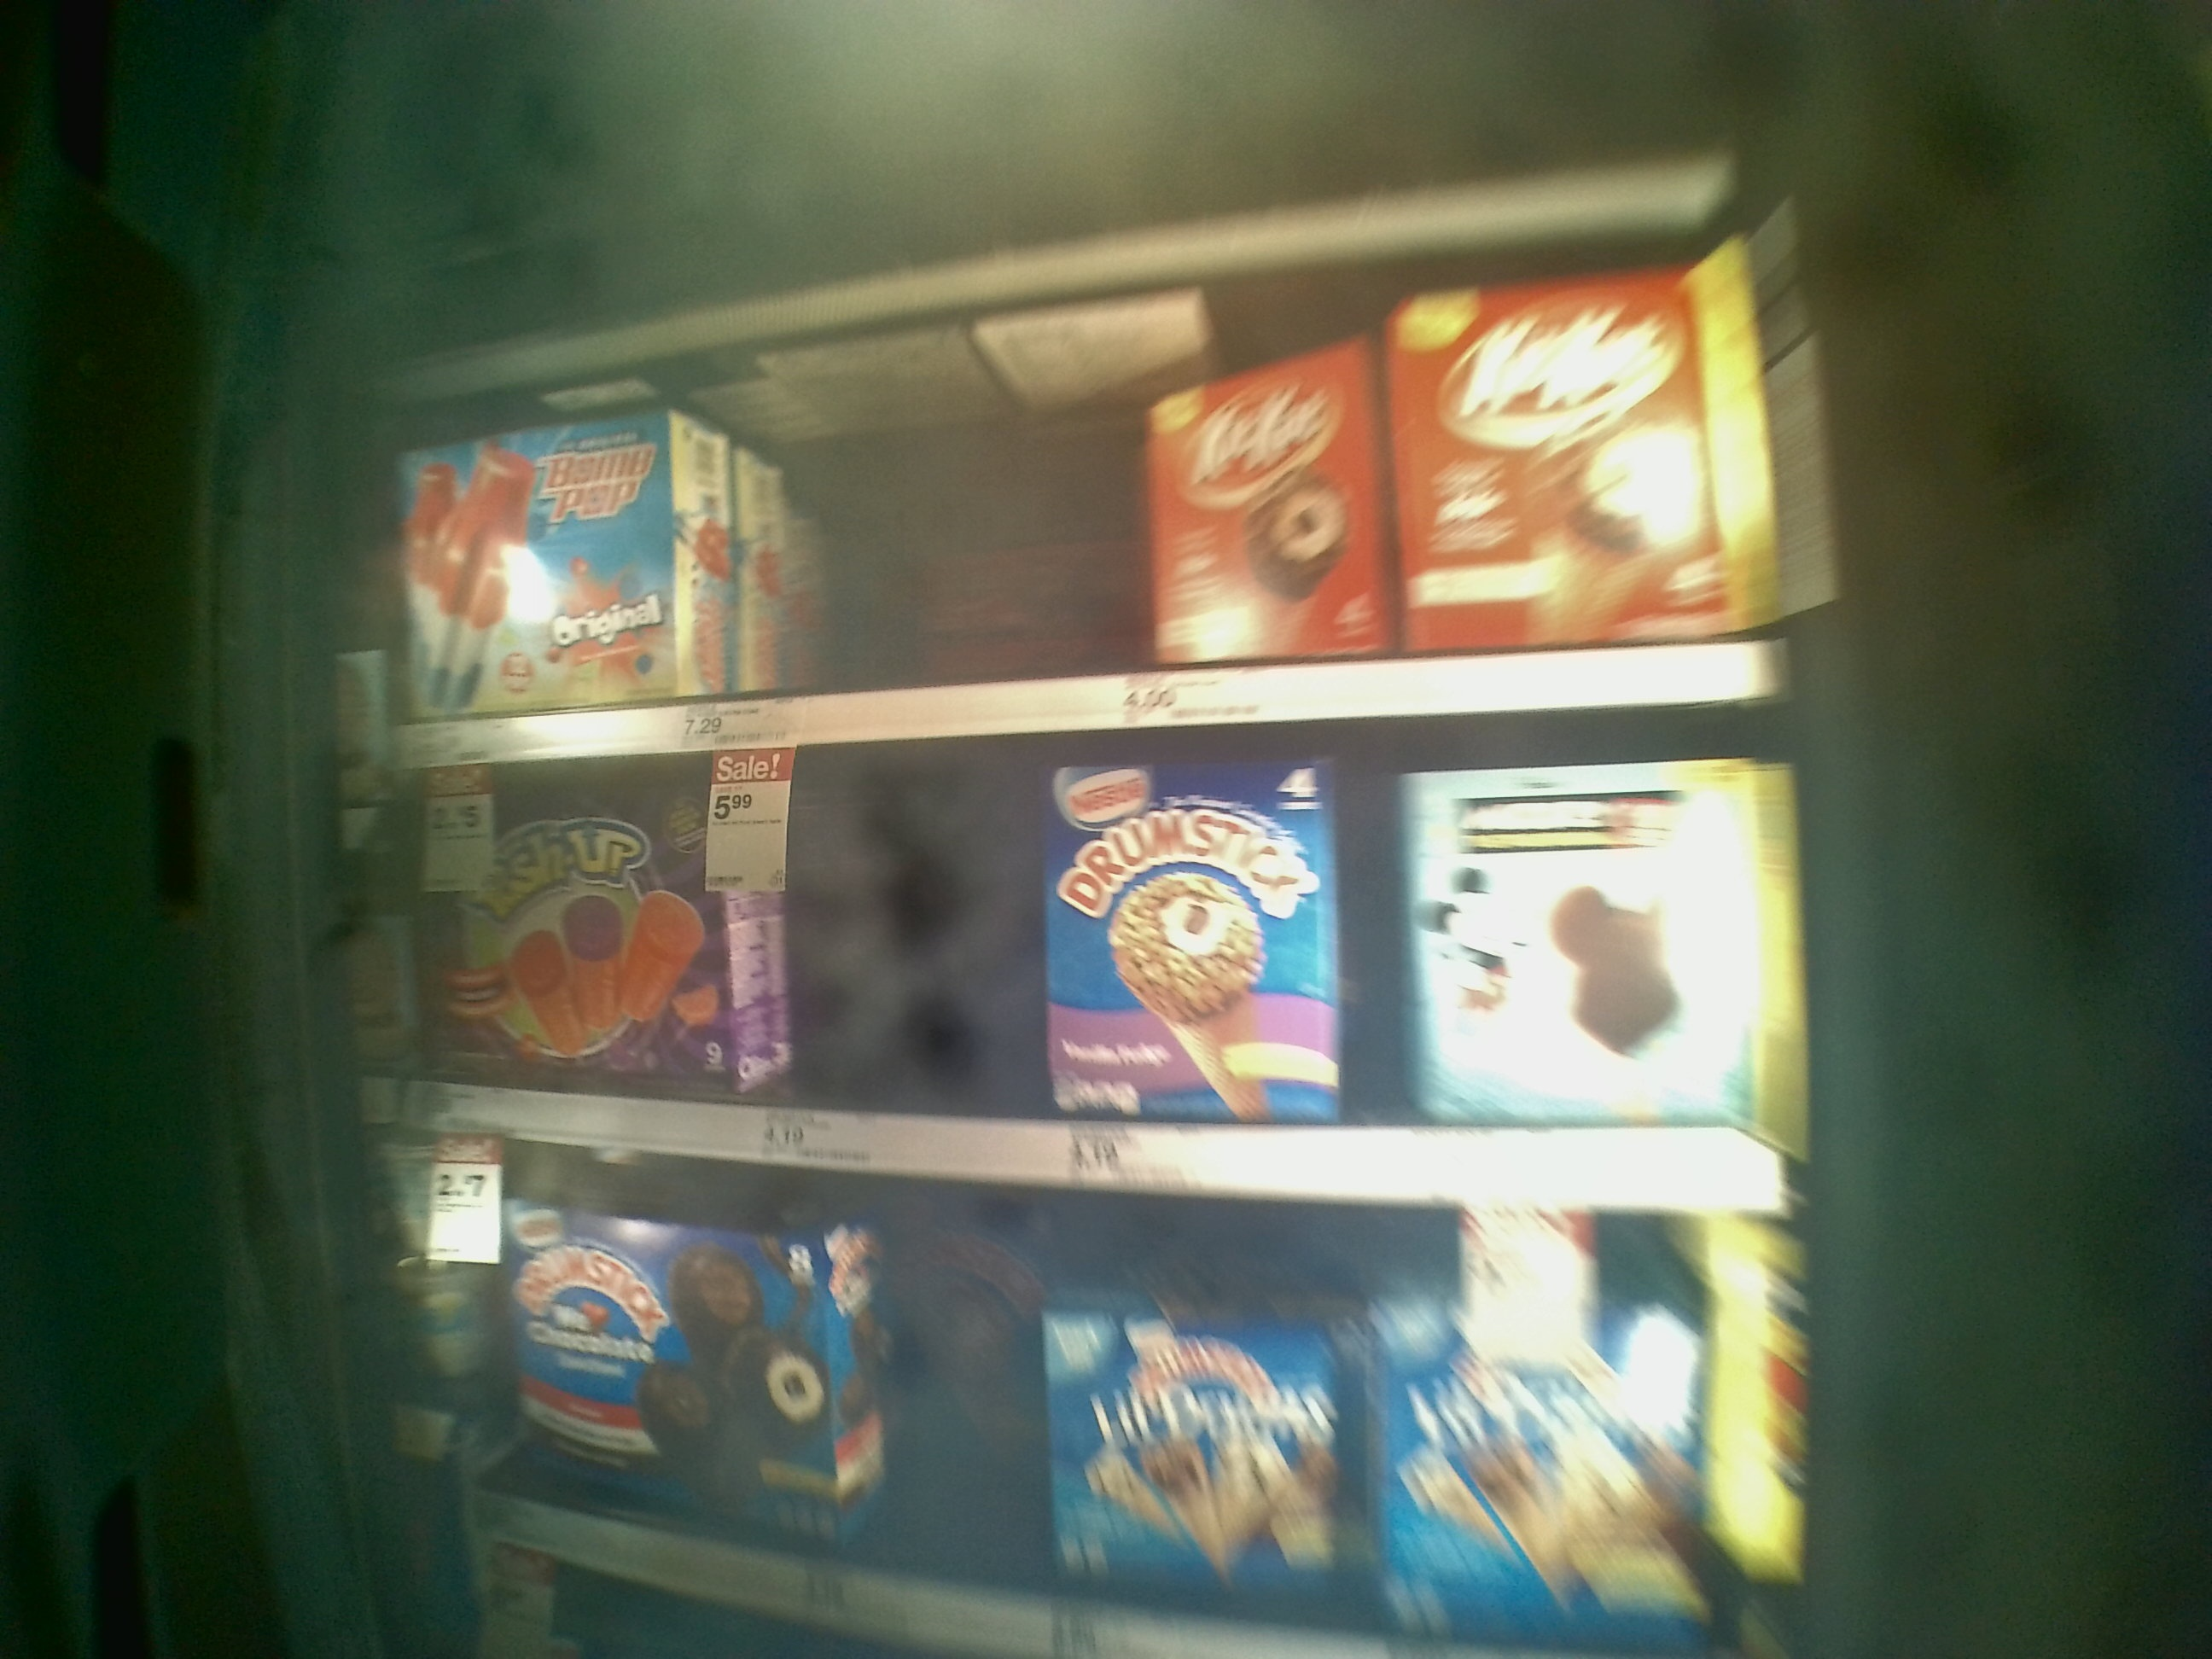shelf: (359, 697, 1810, 1215), (364, 237, 1777, 769)
